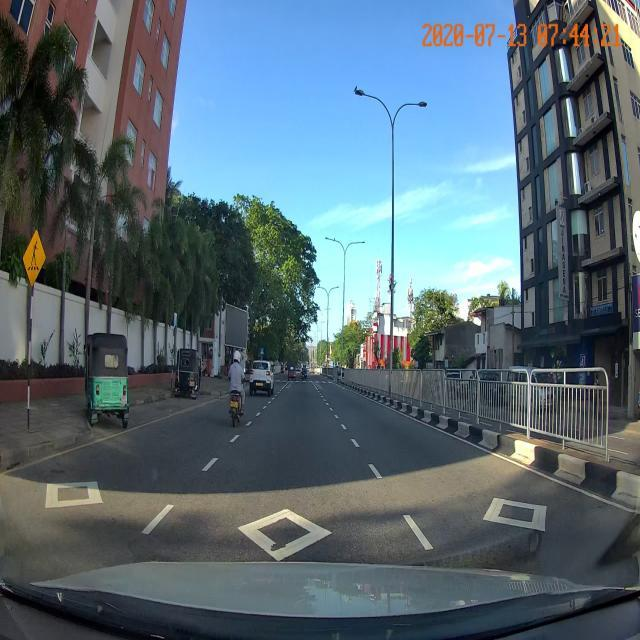diamond: (120, 478, 444, 561)
